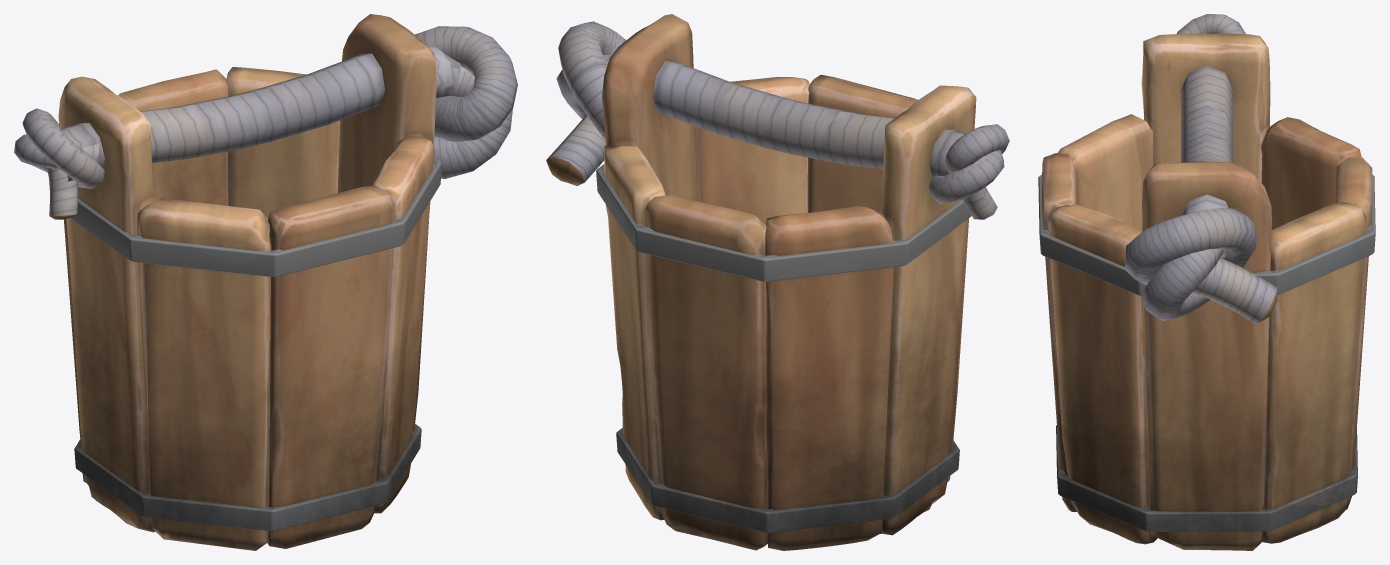
File: Bucket_Final.fbx
3 views of the same model, side by side, from view 1: azimuth 30°, elevation 25°; view 2: azimuth 150°, elevation 25°; view 3: azimuth 270°, elevation 25° (orthographic). The views are drawn at different scales.
Parts seen in each view (by area): view 1: Bucket; view 2: Bucket; view 3: Bucket.
Boxes of the visible parts, <box> form: Bucket: <box>14,14,517,550</box>; Bucket: <box>546,14,1009,550</box>; Bucket: <box>1038,14,1375,550</box>.
Bounding box in the file's own units: 5.16 × 4.45 × 3.49.
